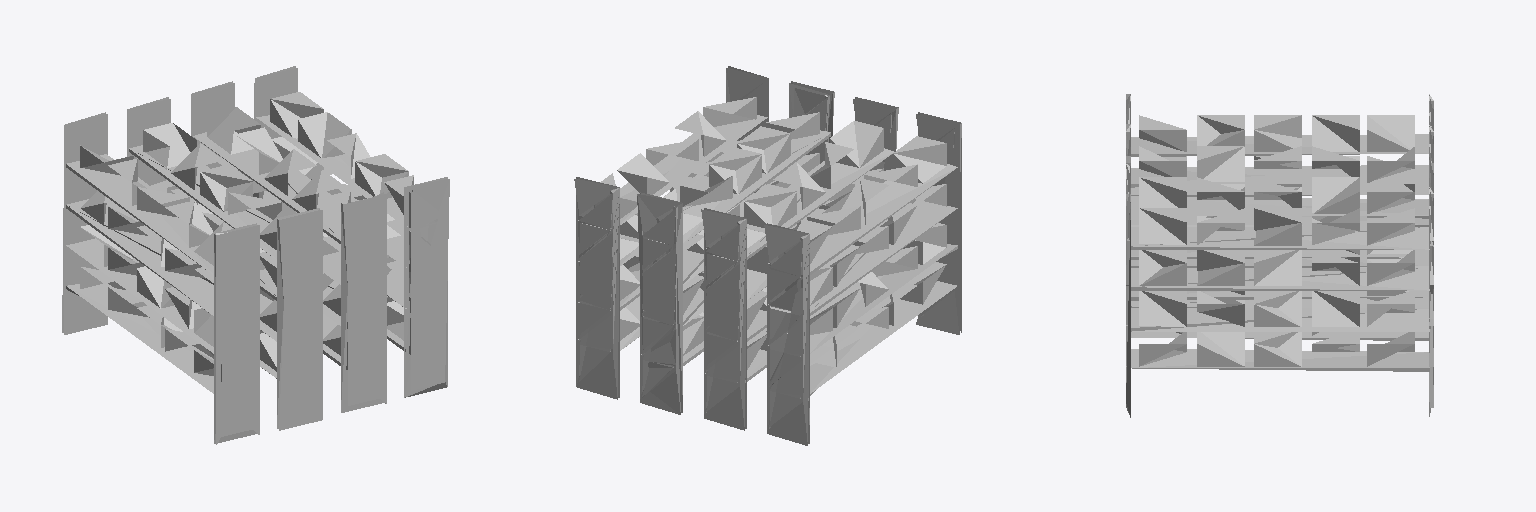
File: palette.obj
3 views of the same model, side by side, from view 1: azimuth 30°, elevation 25°; view 2: azimuth 150°, elevation 25°; view 3: azimuth 270°, elevation 25° (orthographic).
Parts seen in each view (by area): view 1: Cube.10112_Cube.11542; view 2: Cube.10112_Cube.11542; view 3: Cube.10112_Cube.11542.
Boxes of the visible parts, <box> form: Cube.10112_Cube.11542: <box>62,66,449,444</box>; Cube.10112_Cube.11542: <box>574,66,961,445</box>; Cube.10112_Cube.11542: <box>1126,94,1433,417</box>.
Size of the model in its own units: 15.97 by 13.75 by 18.21.